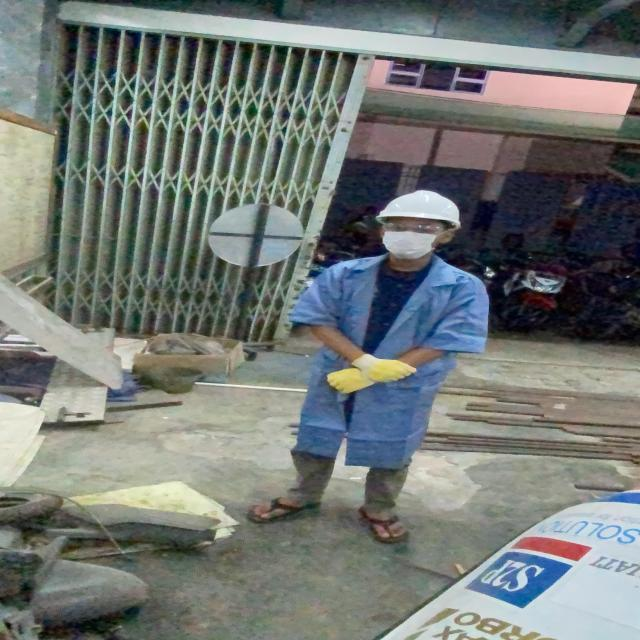glasses: (376, 220, 451, 236)
